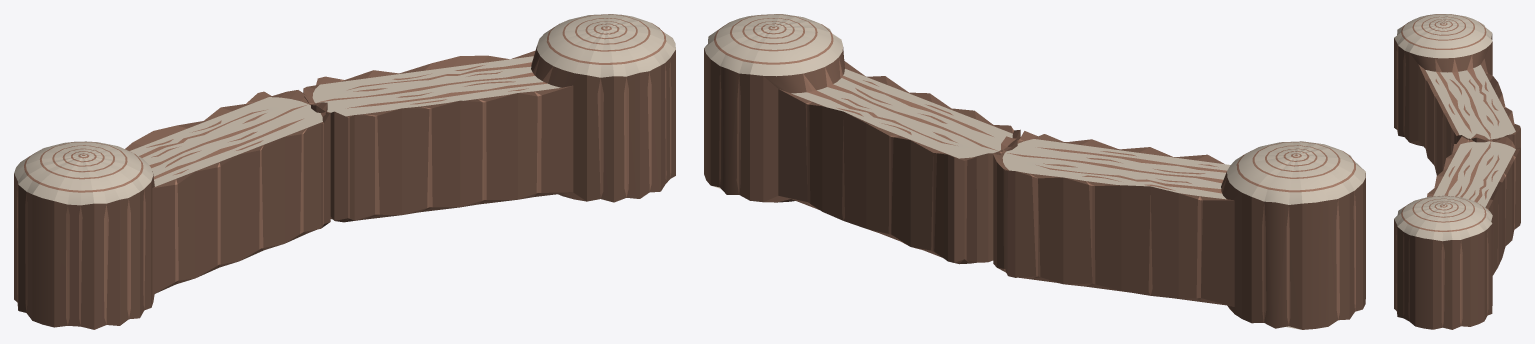
The model's file is Door.fbx.
3 renders of one model, left to right at view 1: azimuth 30°, elevation 25°; view 2: azimuth 150°, elevation 25°; view 3: azimuth 270°, elevation 25°, orthographic. The views are drawn at different scales.
Visible parts, largest first — view 1: Door.001; view 2: Door.001; view 3: Door.001.
Boxes of the visible parts, x1=… form: Door.001: x1=14, y1=14, x2=675, y2=329; Door.001: x1=704, y1=14, x2=1365, y2=329; Door.001: x1=1394, y1=14, x2=1520, y2=329.
Bounding box in the file's own units: 2785 × 604 × 669.
